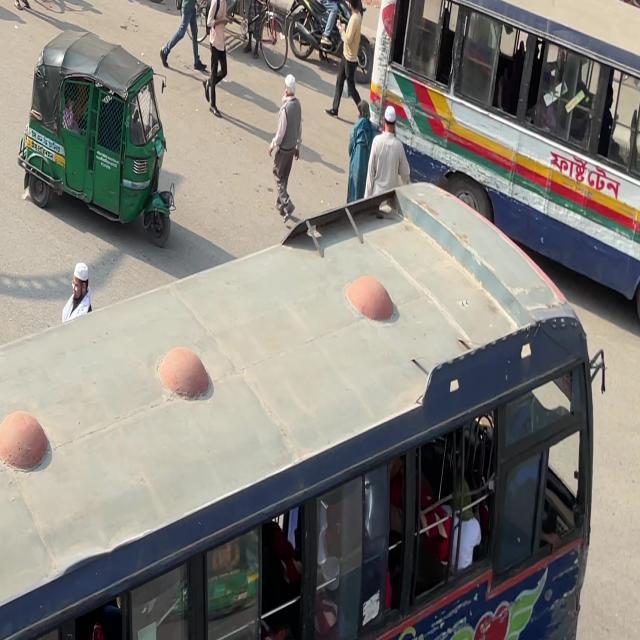bus: (0, 166, 609, 640), (375, 0, 640, 284)
motorbike: (284, 0, 371, 73)
rickshaw: (11, 6, 178, 256)
